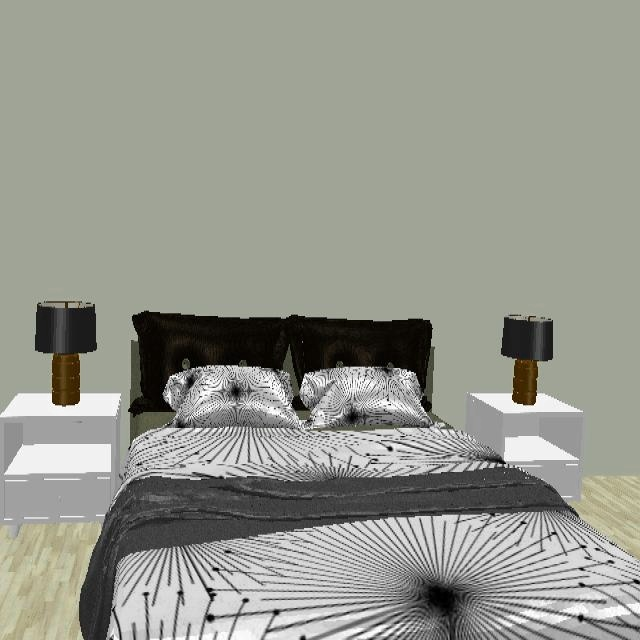bed: (79, 312, 640, 640)
lamp: (35, 301, 99, 407), (500, 315, 554, 405)
nighttable: (0, 393, 131, 525), (466, 393, 584, 500)
pillow: (163, 365, 435, 431)
